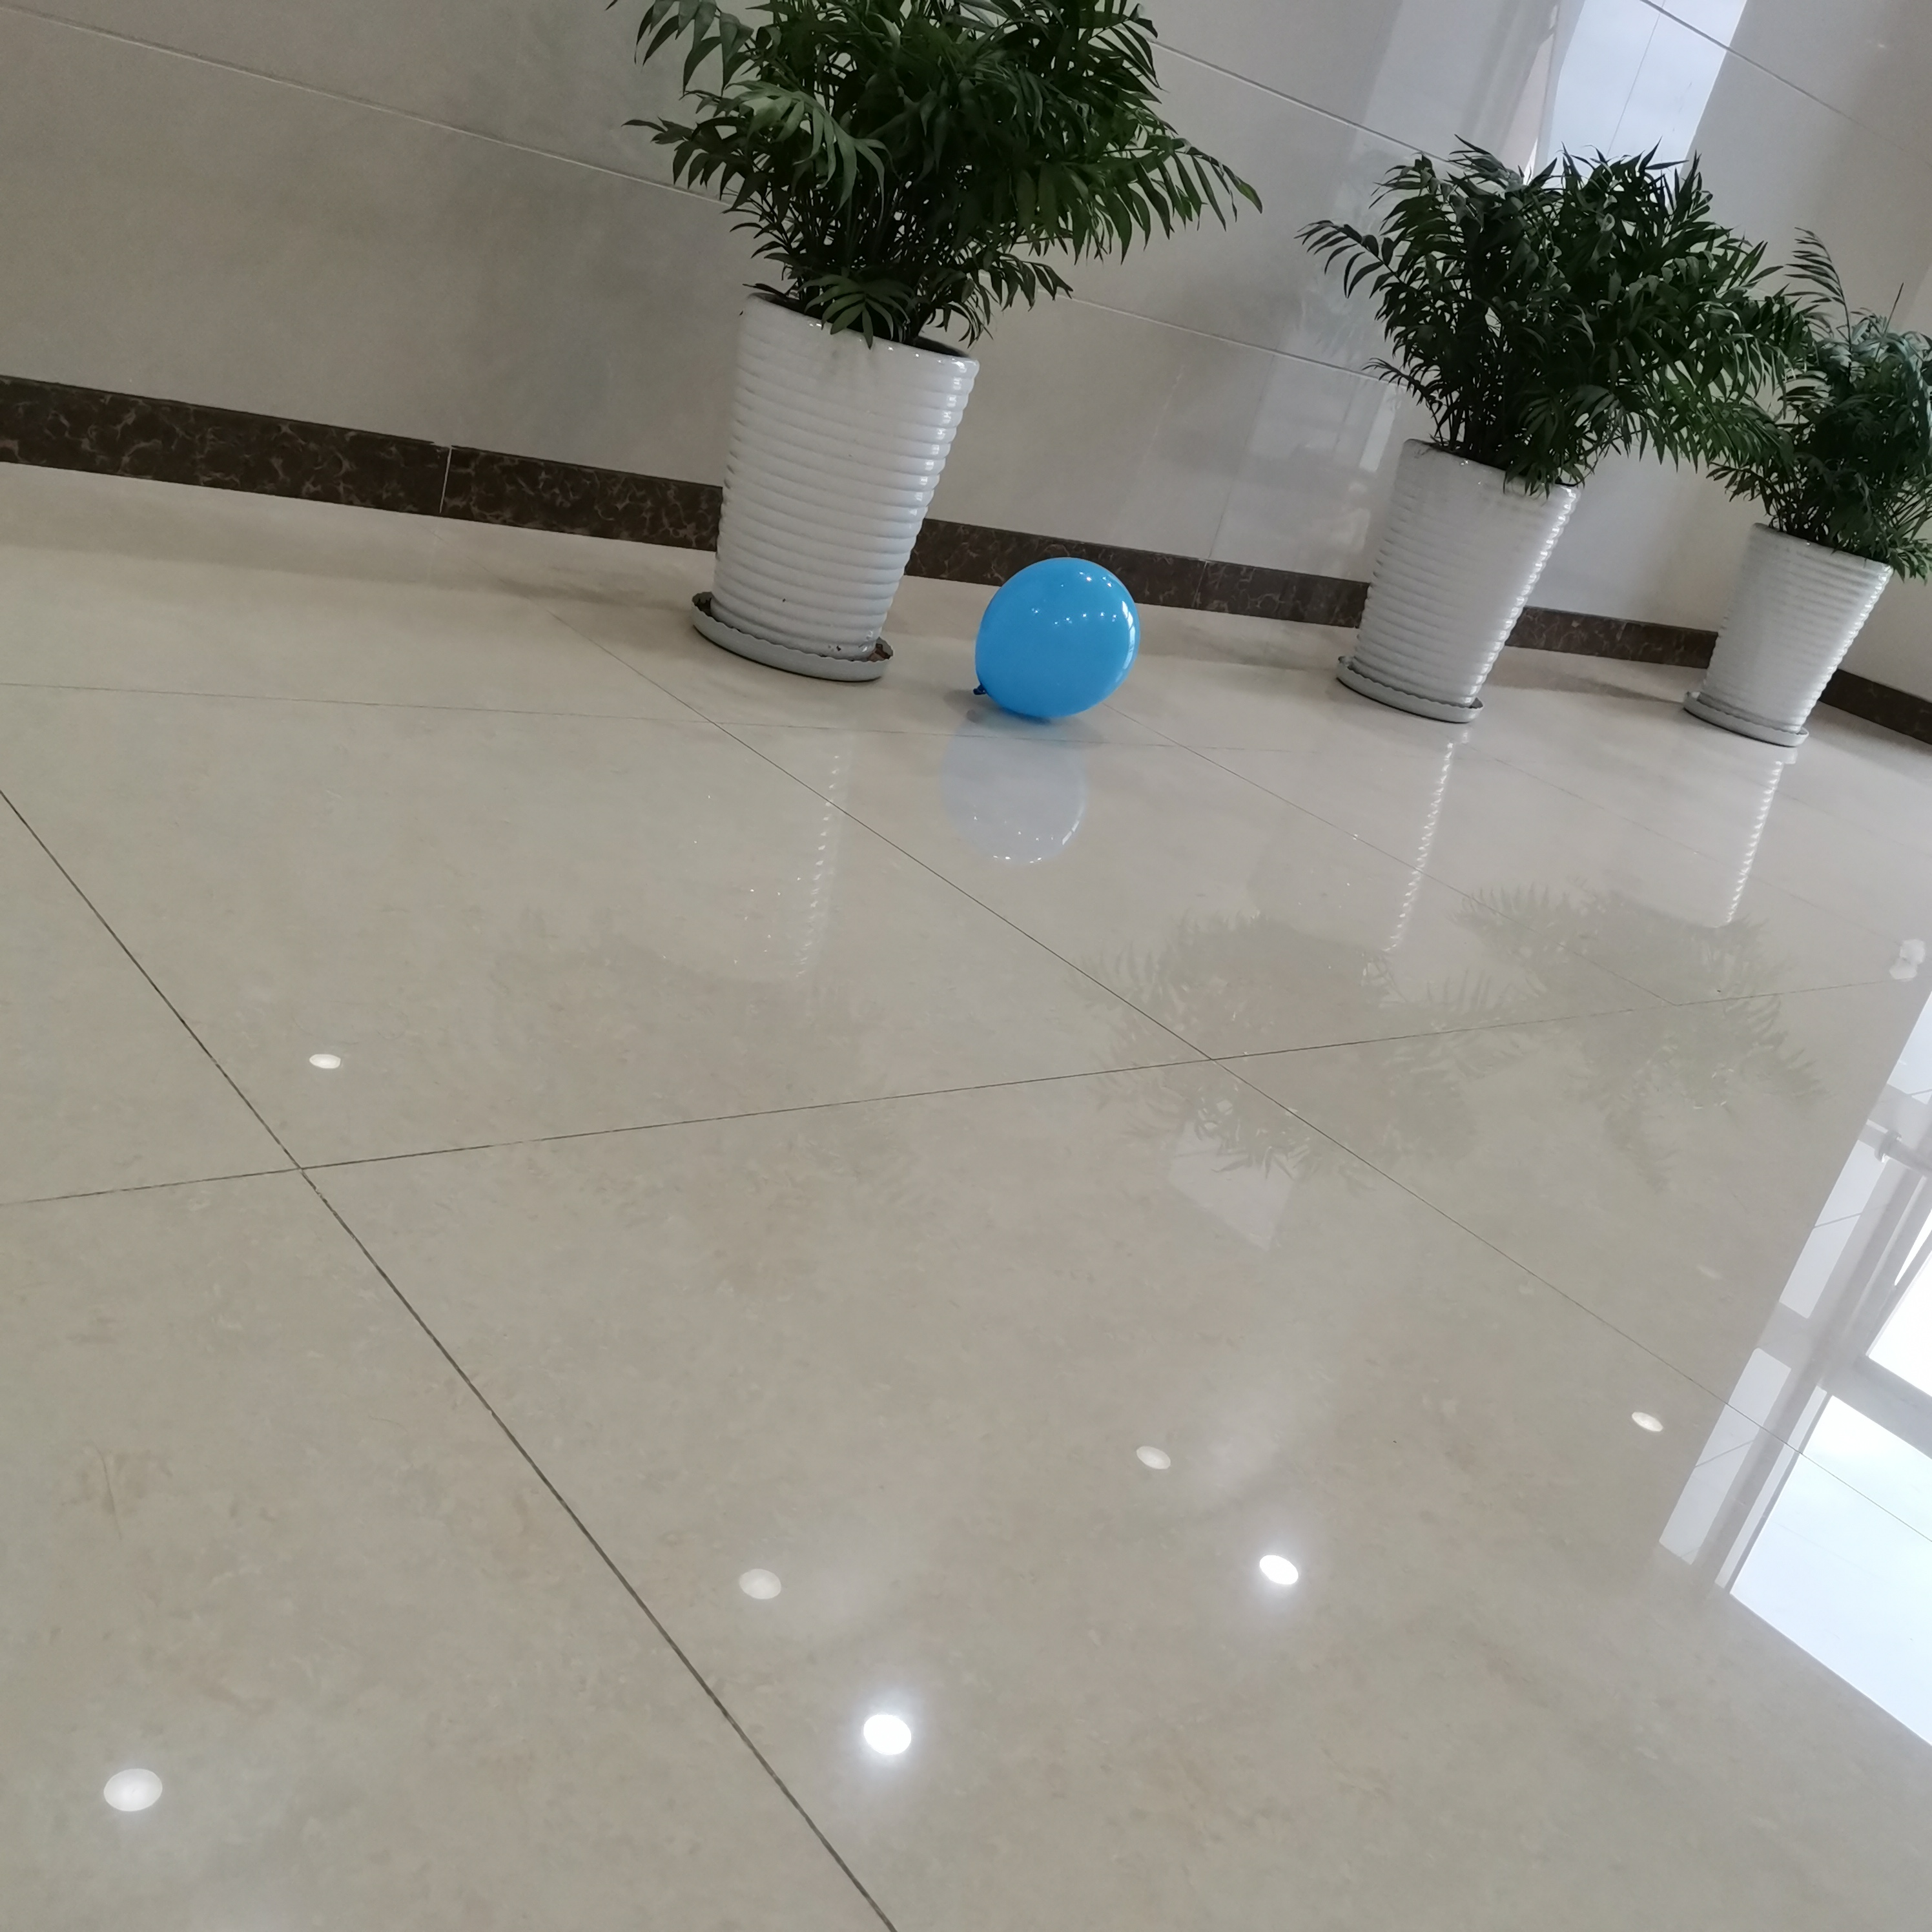balloon: (968, 556, 1141, 718)
